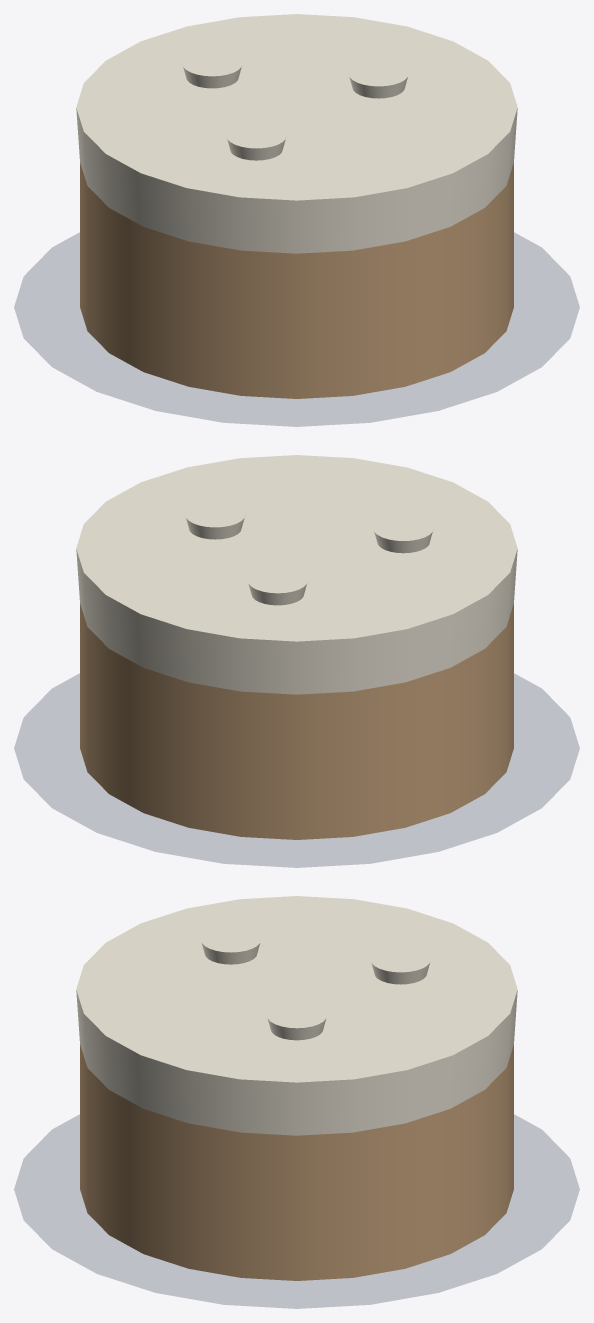
The model's file is cake.glb.
3 renders of one model, top to bottom at view 1: azimuth 30°, elevation 25°; view 2: azimuth 150°, elevation 25°; view 3: azimuth 270°, elevation 25°, orthographic.
Visible parts, largest first — view 1: cream, sponge, plate, sockets; view 2: cream, sponge, plate, sockets; view 3: cream, sponge, plate, sockets.
Part boxes in pixels (x1,y1,x2,y2): cream: (76,14,517,253); sponge: (80,162,513,398); plate: (14,232,579,426); sockets: (182,51,408,160); cream: (76,455,517,694); sponge: (80,603,513,839); plate: (14,673,579,867); sockets: (185,502,433,605); cream: (76,896,517,1135); sponge: (80,1044,513,1280); plate: (14,1114,579,1308); sockets: (201,927,430,1040).
Bounding box in the file's own units: 0.3 × 0.137 × 0.3.
